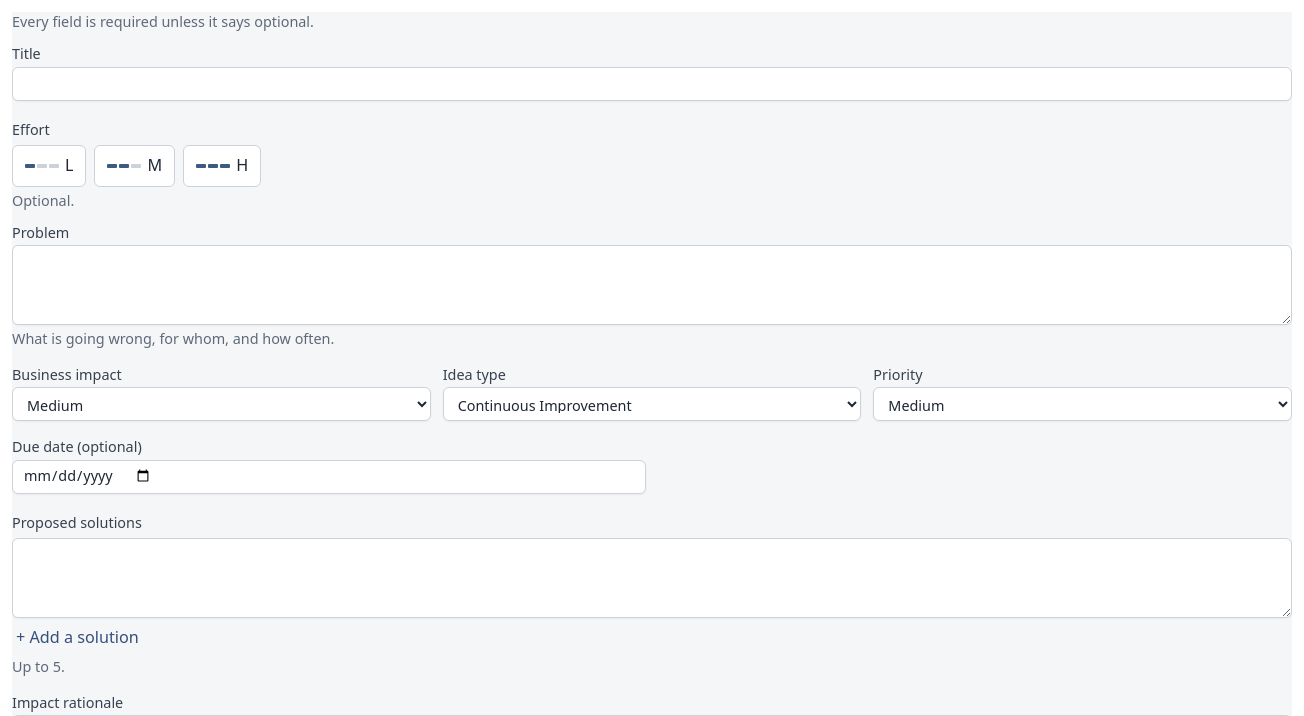
Scenario: IdeaForm assistant handle: apply and the Suggested mark › hands an owned field back to the assistant when a suggestion is chosen (release)
Step 1. Type "Mine" into the text box labelled "Problem" → (652, 285), box x1=12 y1=245 x2=1292 y2=325
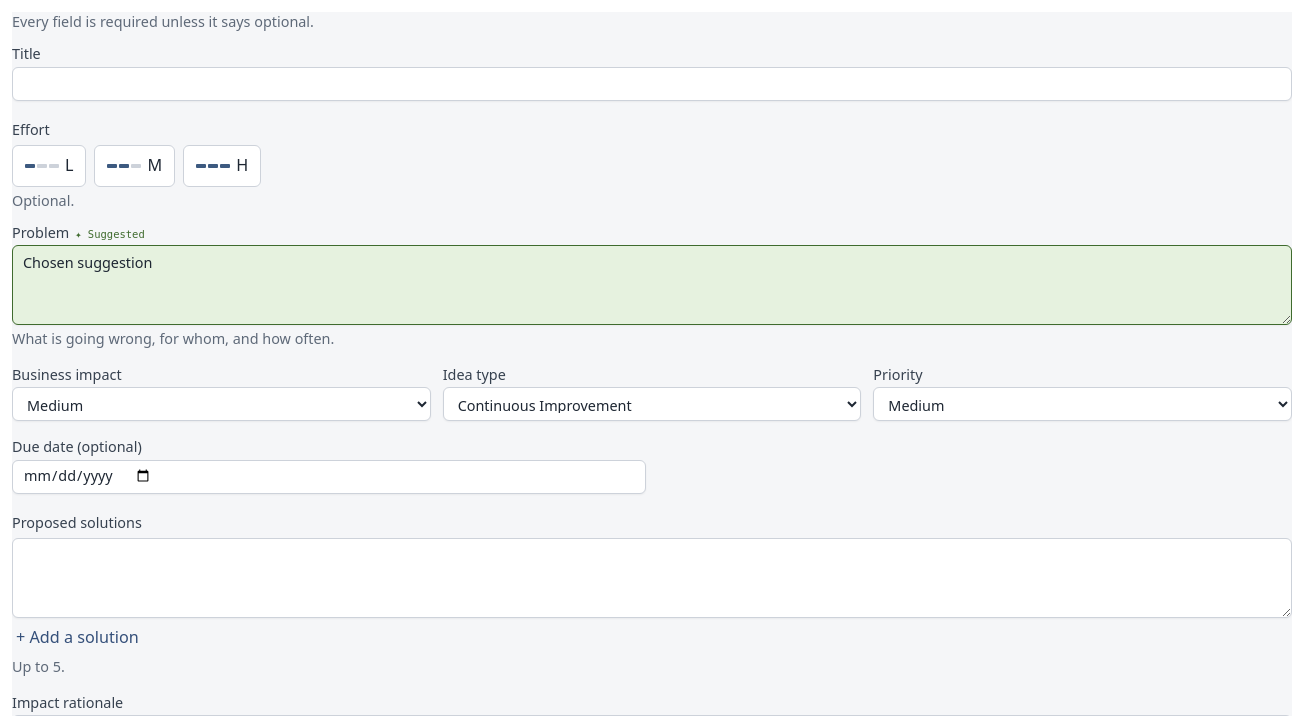
Check: the text box labelled "Problem✦ Suggested" holds "Chosen suggestion", box x1=12 y1=245 x2=1292 y2=325
